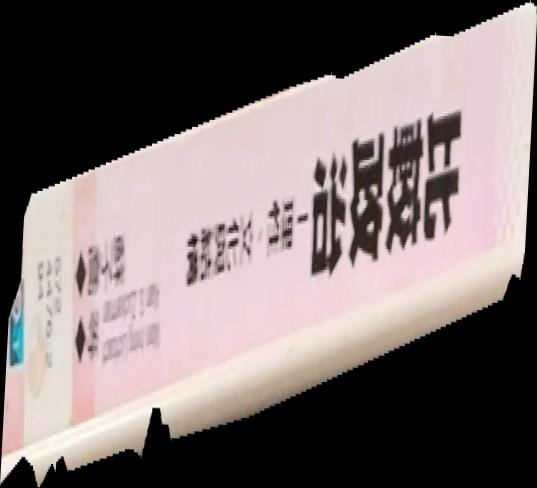flat: (1, 1, 537, 488)
